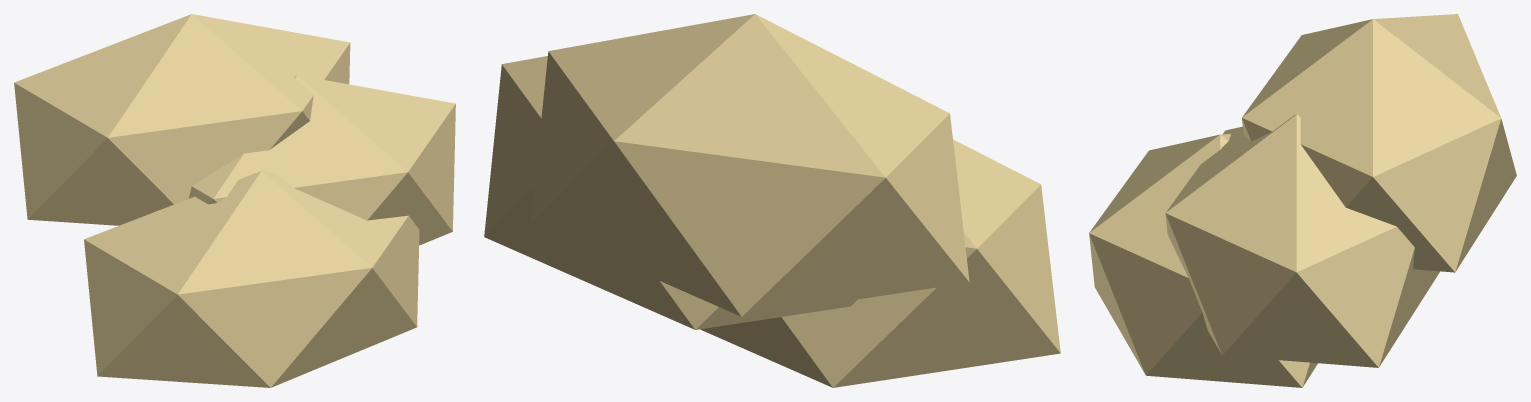
The model's file is item_030_flax_seed_m.glb.
3 renders of one model, left to right at view 1: azimuth 30°, elevation 25°; view 2: azimuth 150°, elevation 25°; view 3: azimuth 270°, elevation 25°, orthographic. The views are drawn at different scales.
Visible parts, largest first — view 1: item_030_flax_seed_m; view 2: item_030_flax_seed_m; view 3: item_030_flax_seed_m.
Part boxes in pixels (x1=…): item_030_flax_seed_m: x1=14, y1=14, x2=455, y2=387; item_030_flax_seed_m: x1=484, y1=14, x2=1060, y2=387; item_030_flax_seed_m: x1=1089, y1=14, x2=1516, y2=387.
Size of the model in its own units: 0.39 by 0.2995 by 0.336.
